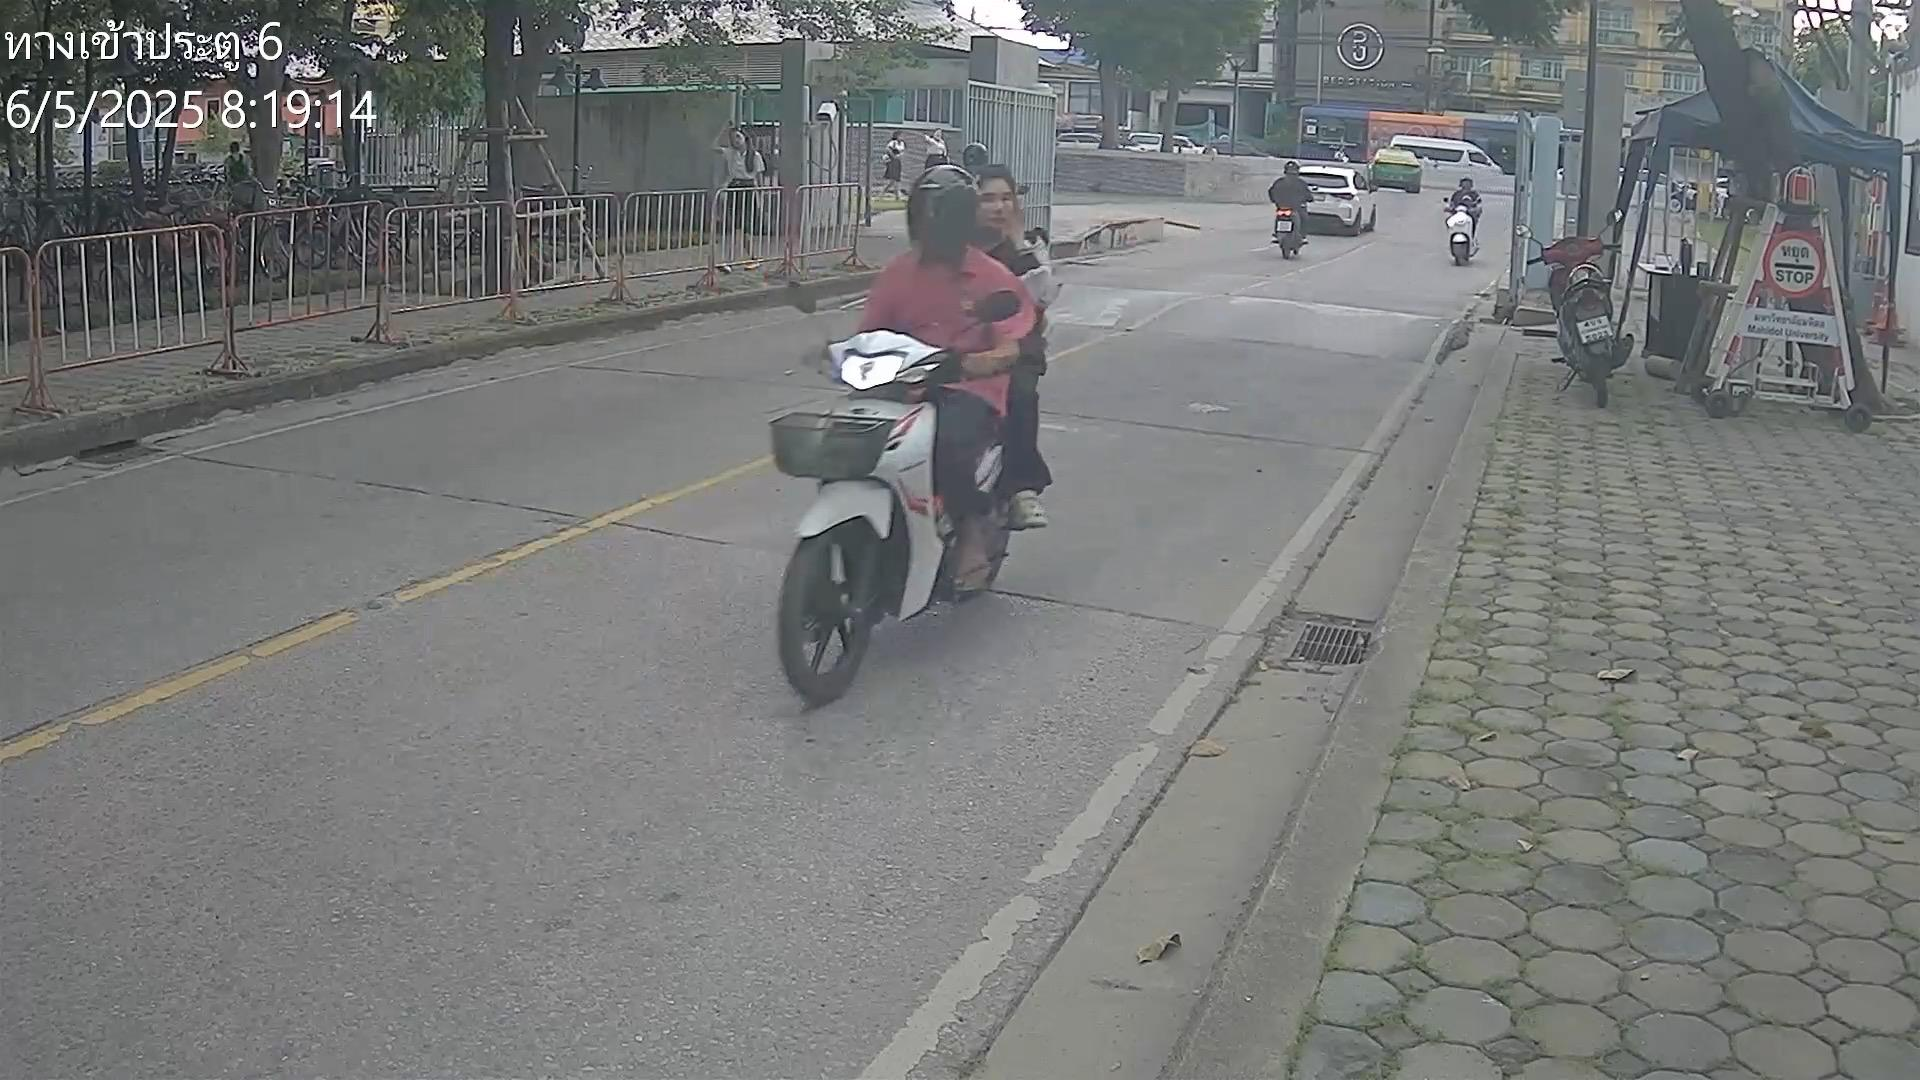With-Helmet: (902, 161, 978, 249)
